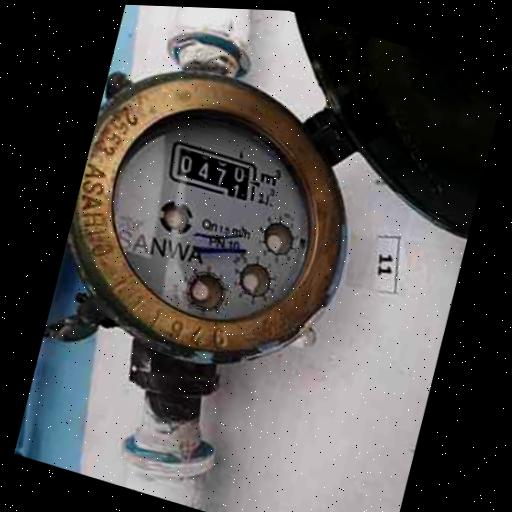0: (222, 160, 255, 202), (173, 146, 200, 181)
4: (190, 152, 218, 186)
7: (208, 156, 236, 191)
border_water_meter_number: (163, 138, 263, 205)
